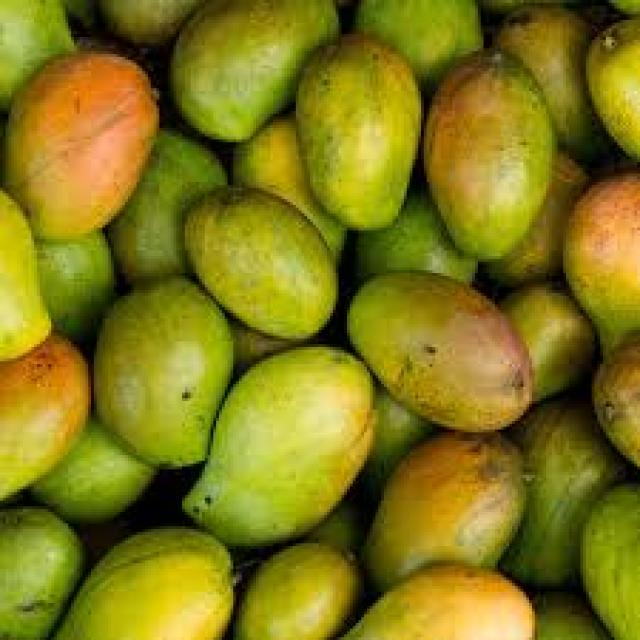mango: (182, 185, 338, 344)
